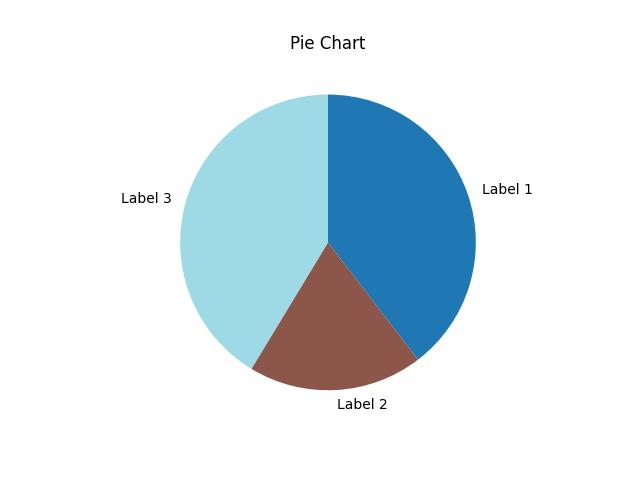sector: (179, 95, 329, 369), (329, 94, 478, 359), (250, 243, 418, 391)
